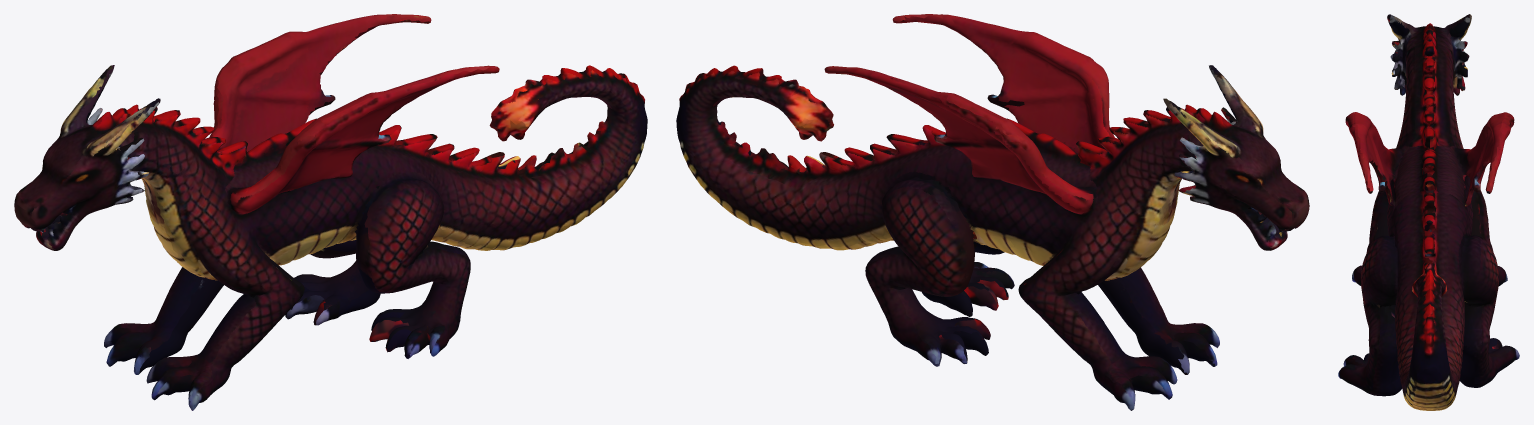
3 renders of one model, left to right at view 1: azimuth 30°, elevation 25°; view 2: azimuth 150°, elevation 25°; view 3: azimuth 270°, elevation 25°, orthographic. The views are drawn at different scales.
Visible parts, largest first — view 1: tmp_7cw1m4j.ply; view 2: tmp_7cw1m4j.ply; view 3: tmp_7cw1m4j.ply.
Boxes of the visible parts, x1,y1,x2,y2 form: tmp_7cw1m4j.ply: (14,14,647,410); tmp_7cw1m4j.ply: (676,14,1309,410); tmp_7cw1m4j.ply: (1338,14,1519,410).
Size of the model in its own units: 1.99 by 0.9185 by 0.5738.
1 material, 1 textured.
